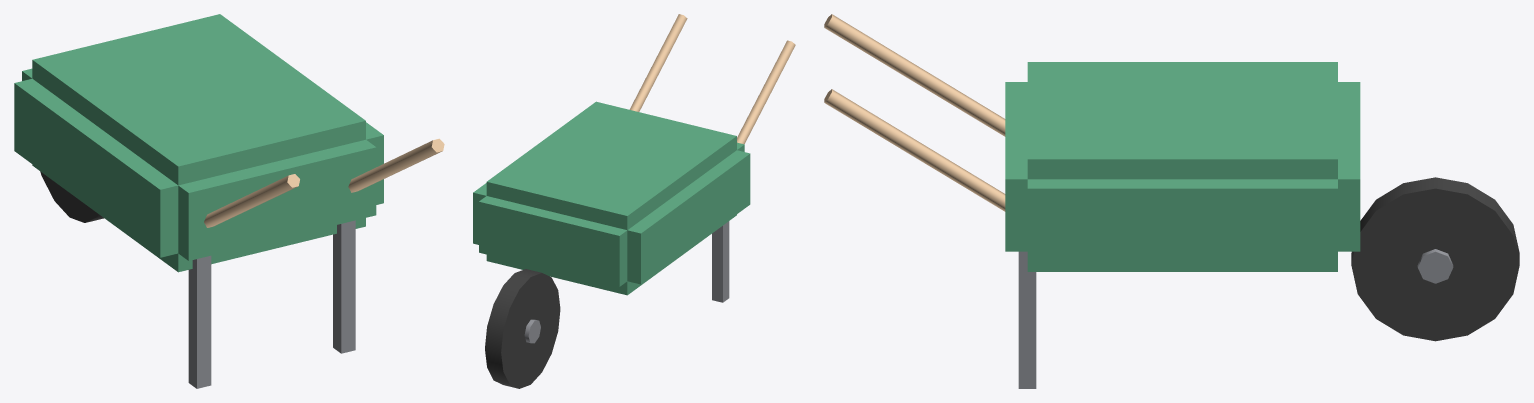
File: wheelbarrow.glb
The picture shows the model from 3 angles, left to right: view 1: azimuth 30°, elevation 25°; view 2: azimuth 150°, elevation 25°; view 3: azimuth 270°, elevation 25°; orthographic projection. The views are drawn at different scales.
Visible parts, largest first — view 1: wheelbarrow; view 2: wheelbarrow; view 3: wheelbarrow.
Part boxes in pixels (<box>): wheelbarrow: <box>14,14,444,388</box>; wheelbarrow: <box>473,14,795,388</box>; wheelbarrow: <box>824,14,1519,388</box>.
Size of the model in its own units: 0.62 by 0.733 by 1.57.
